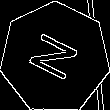N_SE: (25, 29, 86, 87)
